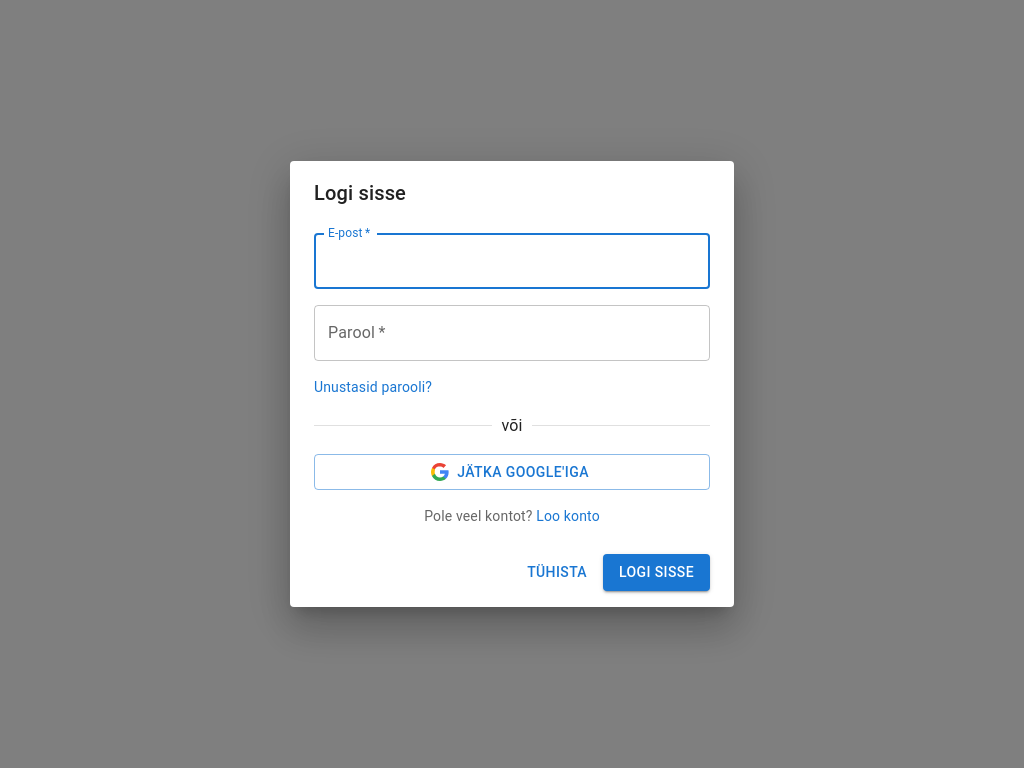
Scenario: LoginDialog › register view › shows password mismatch error
Click the text "Loo konto": (568, 516) [536, 508, 600, 524]
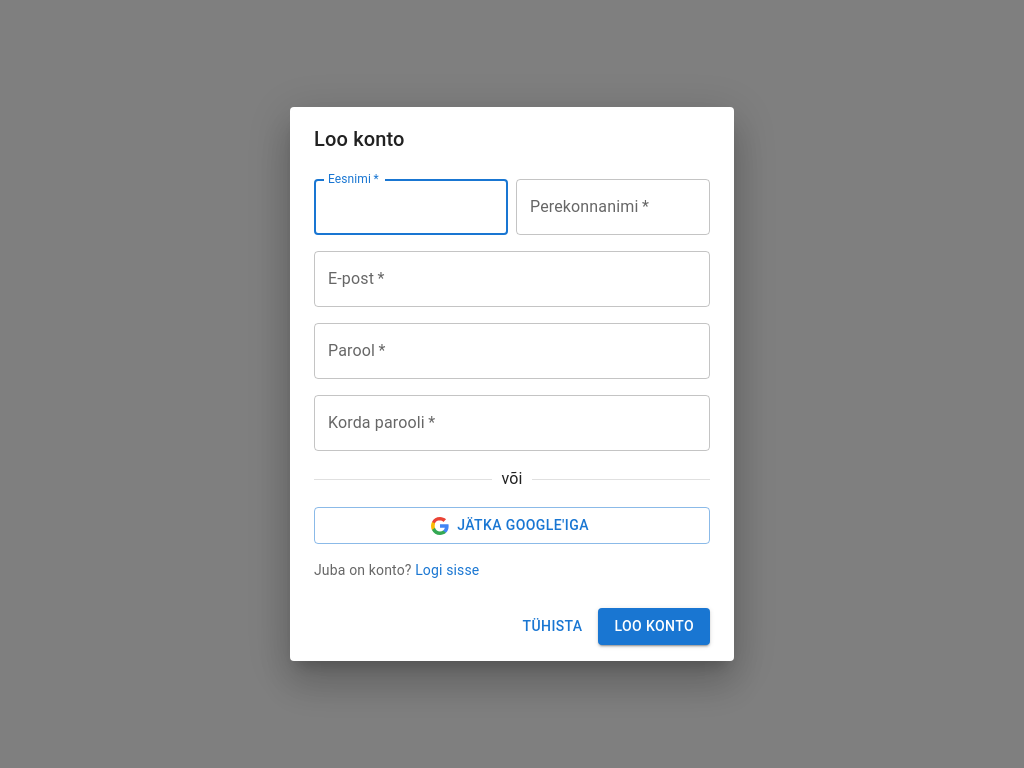
In the field labelled "Eesnimi *": (411, 208) [314, 180, 508, 236], type "Erki"
In the field labelled "Perekonnanimi *": (613, 208) [516, 180, 710, 236], type "K"
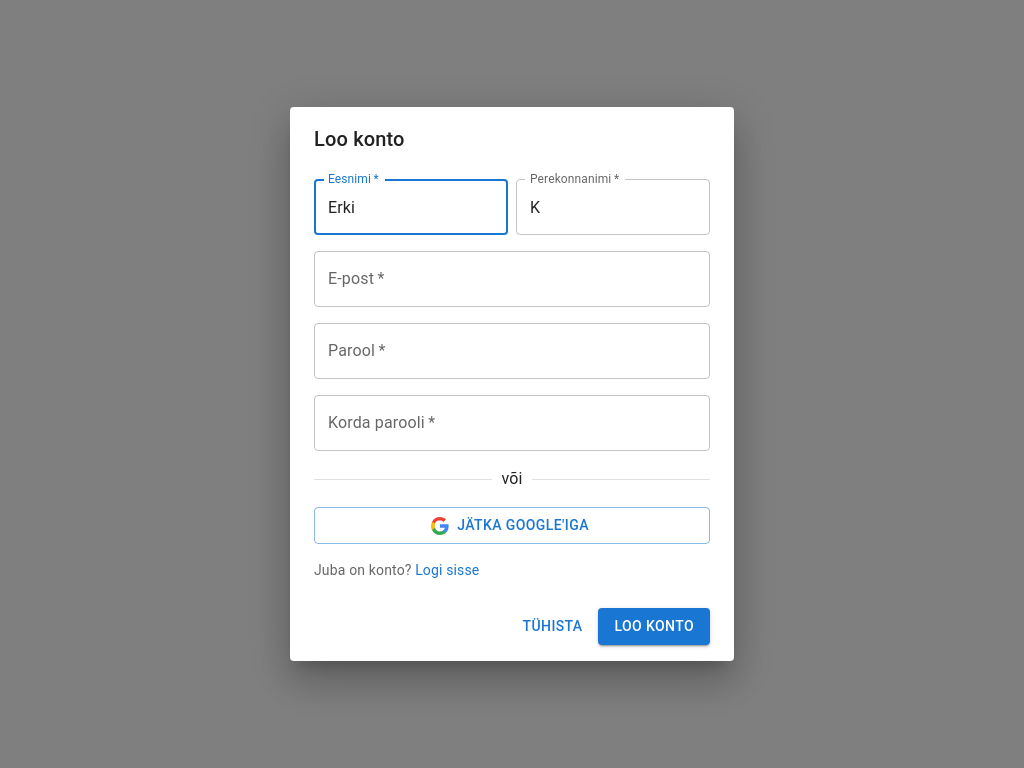
In the field labelled "E-post *": (512, 280) [314, 252, 710, 308], type "e@test.ee"
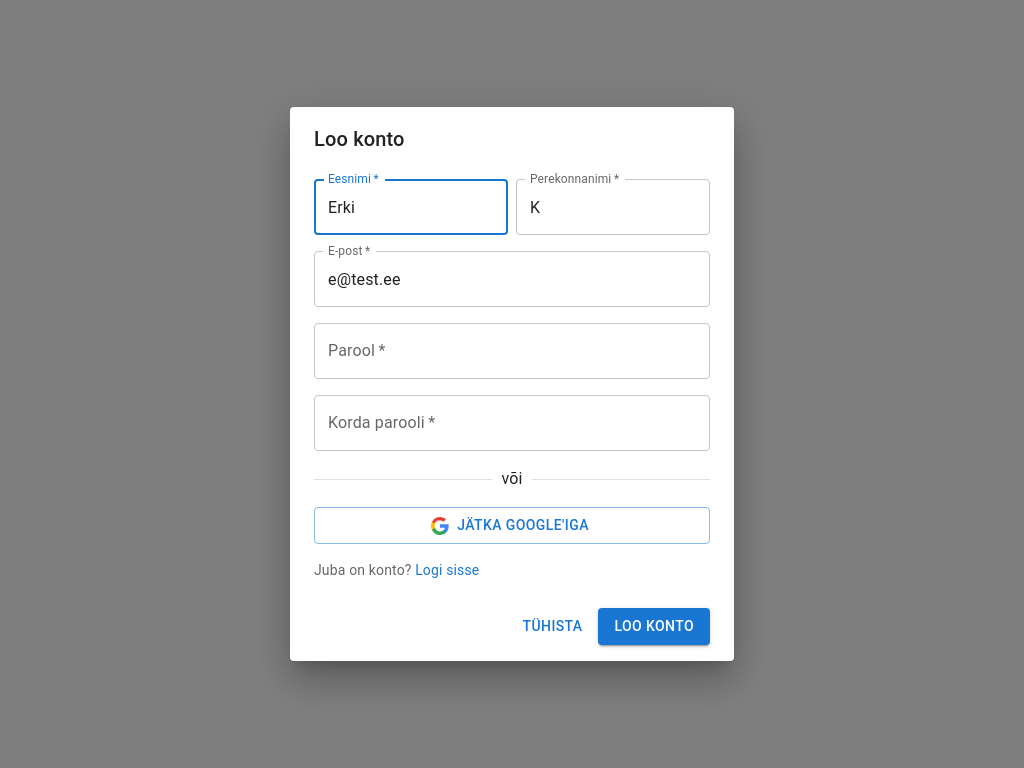
In the password field labelled "Parool *": (512, 352) [314, 324, 710, 380], type "parool123"
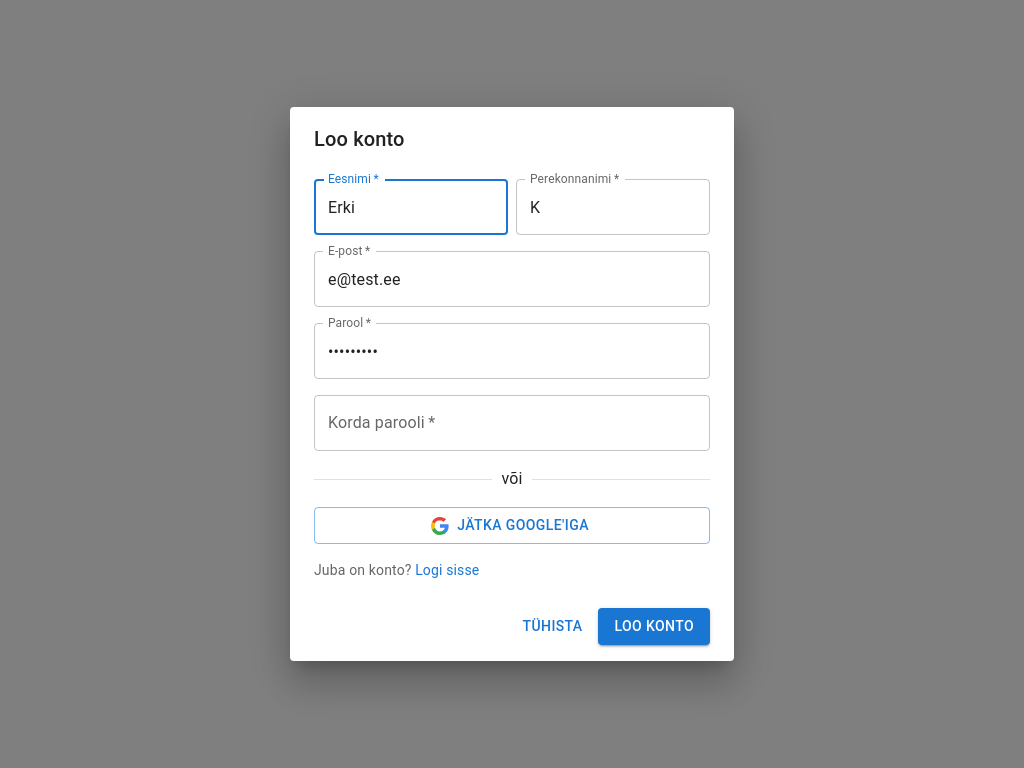
In the password field labelled "Korda parooli *": (512, 424) [314, 396, 710, 452], type "teineparool"
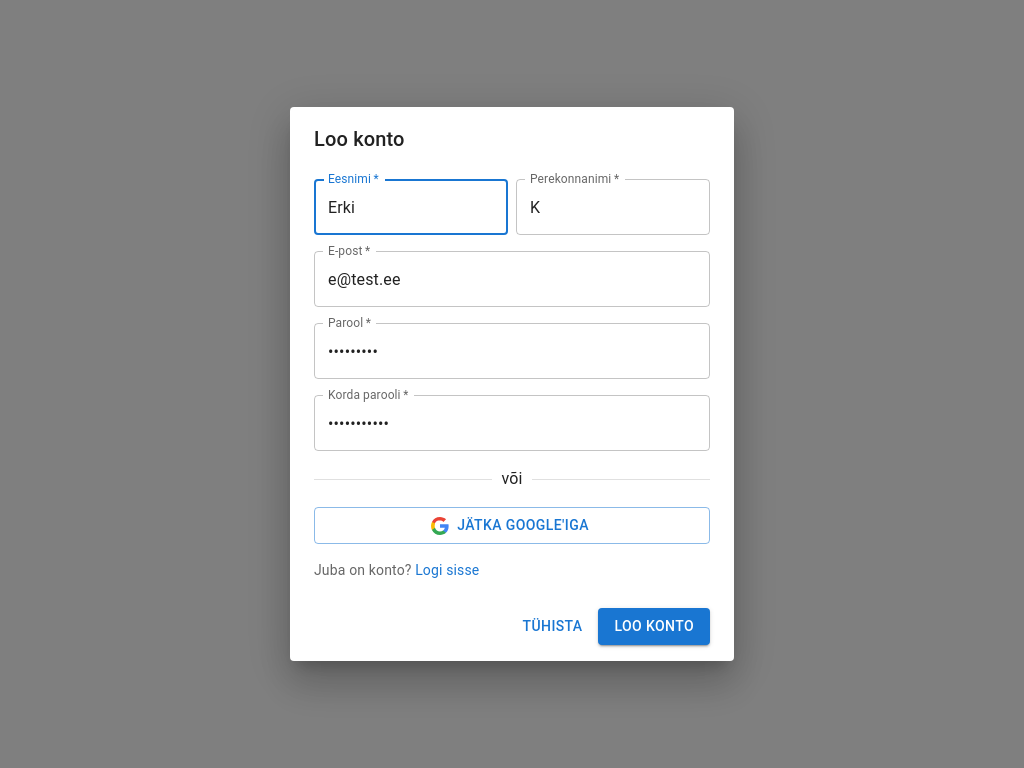
Submit the form "Loo konto", box [290, 108, 734, 660]
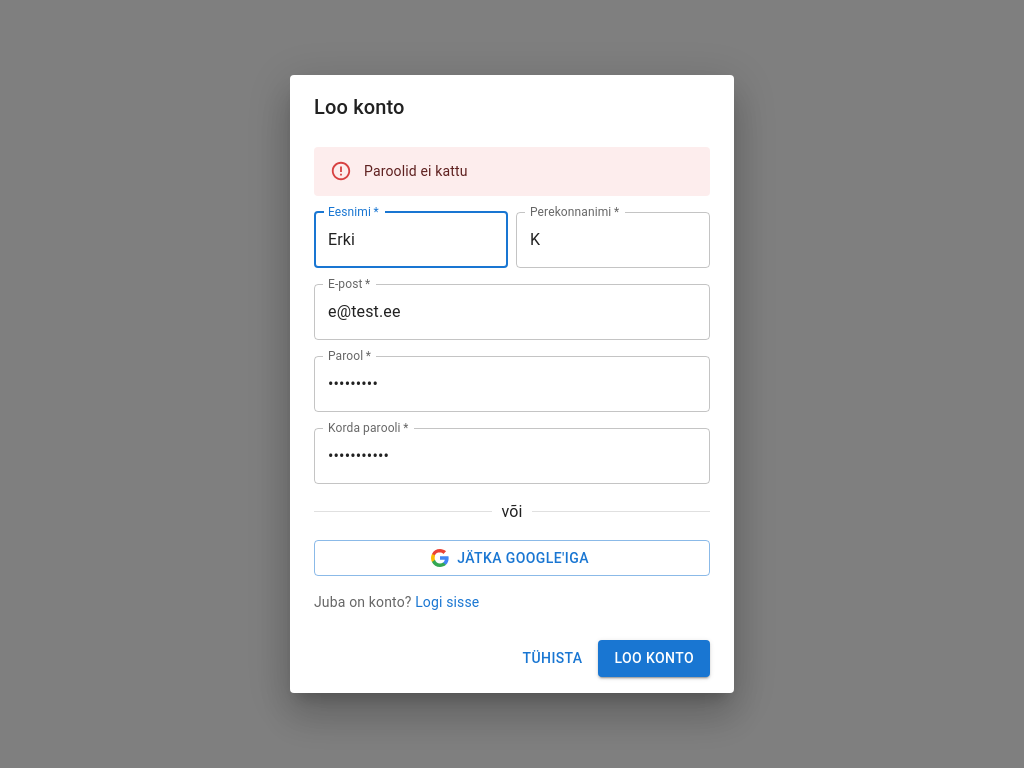
Expected: the text "Paroolid ei kattu" is shown, [364, 164, 468, 180]
